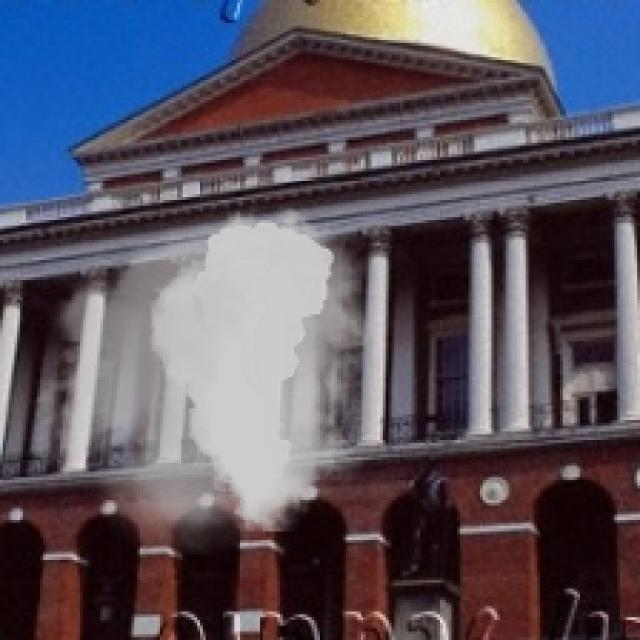smoke: (14, 197, 397, 554)
